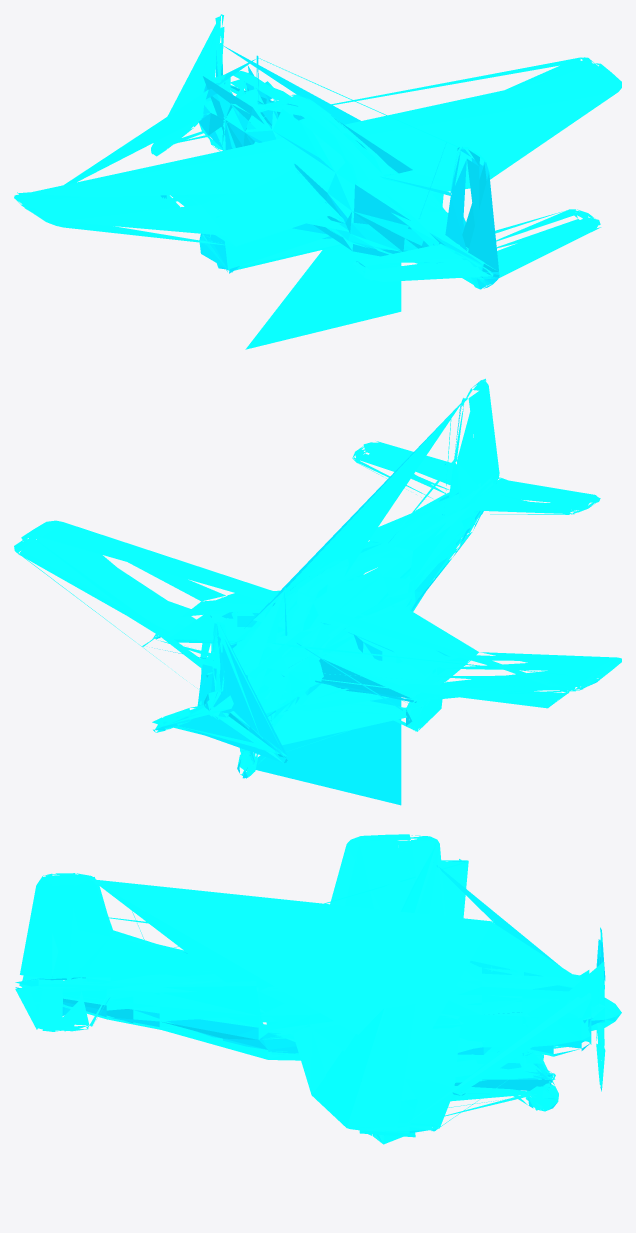
The model's file is PAAD910.glb.
The picture shows the model from 3 angles, top to bottom: view 1: azimuth 30°, elevation 25°; view 2: azimuth 150°, elevation 25°; view 3: azimuth 270°, elevation 25°; orthographic projection. The views are drawn at different scales.
Parts seen in each view (by area): view 1: misc; view 2: misc; view 3: misc.
Boxes of the visible parts, x1,y1,x2,y2 form: misc: [14, 14, 621, 349]; misc: [14, 378, 621, 805]; misc: [15, 834, 621, 1144].
Bounding box in the file's own units: 0.902 × 0.4327 × 0.7812.
